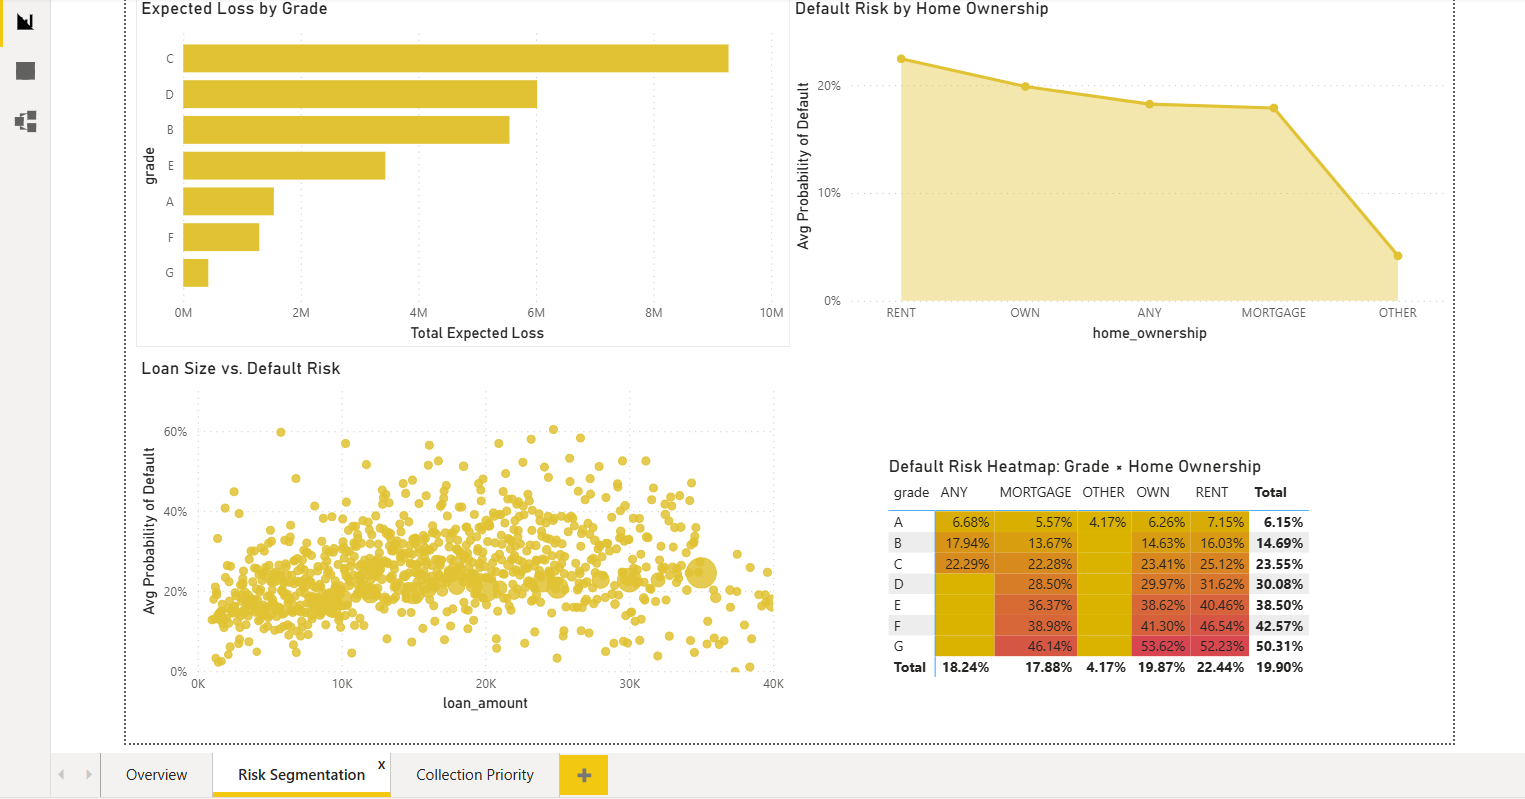

Layout of this report page (visuals, bound fields, positions):
{"tool":"powerbi","page":{"name":"Risk Segmentation","canvas":[1280,720],"ordinal":1},"visuals":[{"type":"clusteredBarChart","title":"Expected Loss by Grade","fields":{"Y":["loans_flat.Total Expected Loss"],"Category":["loans_flat.grade","loans_flat.purpose"]},"box":[10,0,630,337.1],"z":0},{"type":"areaChart","title":"Default Risk by Home Ownership","fields":{"Category":["loans_flat.home_ownership"],"Y":["loans_flat.Avg Probability of Default"]},"box":[640,0,640,337.1],"z":1000},{"type":"scatterChart","title":"Loan Size vs. Default Risk","fields":{"Y":["loans_flat.Avg Probability of Default"],"X":["loans_flat.loan_amount"],"Size":["Sum(loans_flat.expected_loss)"]},"box":[10,347.1,630,347.1],"z":2000},{"type":"pivotTable","title":"Default Risk Heatmap: Grade × Home Ownership","fields":{"Rows":["loans_flat.grade"],"Columns":["loans_flat.home_ownership"],"Values":["loans_flat.Avg Probability of Default"]},"box":[731.4,442.8,458.9,236.6],"z":3000}]}

Visuals, with their boxes on the page's 1280x720 design canvas (x1, y1, x2, y2). These are canvas units, not pixel positions in the 1525x799 screenshot, which may show the page scaled, cropped or inside an application window:
"Expected Loss by Grade" clusteredBarChart: [x1=10, y1=0, x2=640, y2=337]
"Default Risk by Home Ownership" areaChart: [x1=640, y1=0, x2=1280, y2=337]
"Loan Size vs. Default Risk" scatterChart: [x1=10, y1=347, x2=640, y2=694]
"Default Risk Heatmap: Grade × Home Ownership" pivotTable: [x1=731, y1=443, x2=1190, y2=679]
